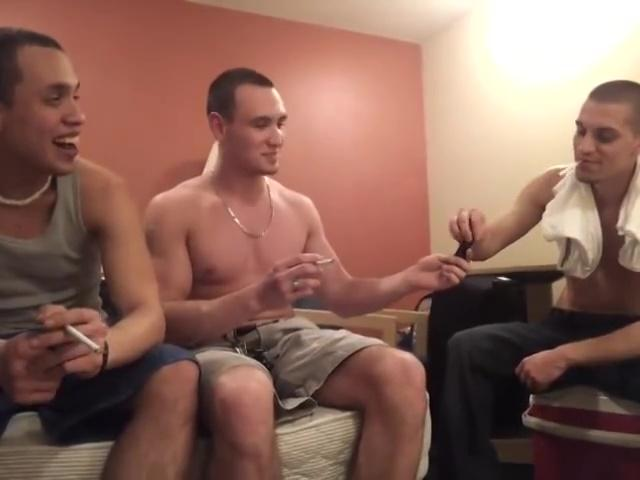cigarette: (62, 321, 109, 353), (554, 158, 593, 180), (308, 255, 341, 269)
